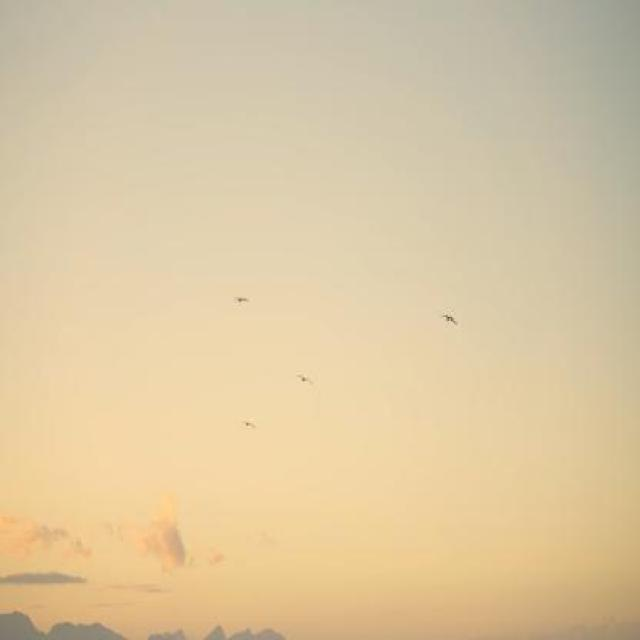bird: (293, 362, 315, 392), (438, 301, 462, 328), (228, 290, 252, 316), (239, 412, 253, 432)
